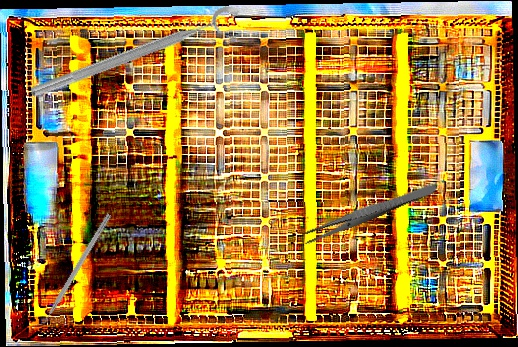Chopper: (31, 209, 112, 332)
Dressing Forceps: (299, 178, 439, 247)
Fixation Ring: (27, 1, 250, 116)
